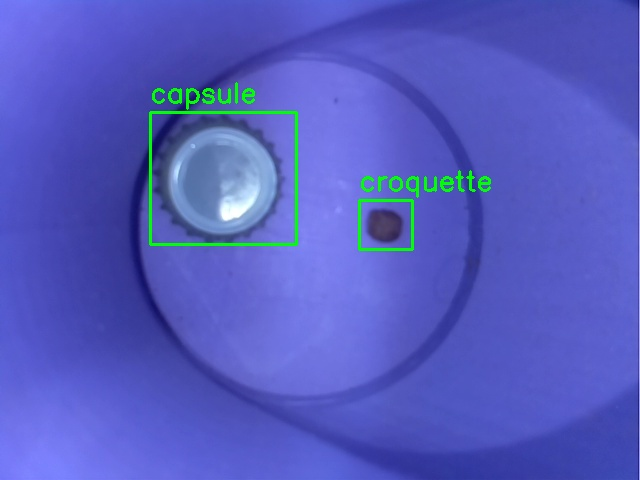capsule: (150, 112, 296, 244)
croquette: (359, 200, 412, 249)
